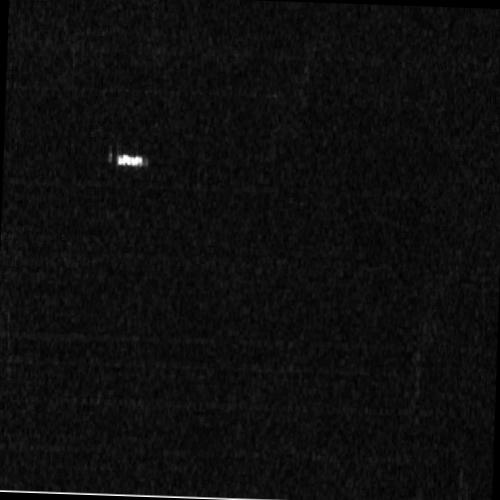ship: (114, 152, 147, 169)
